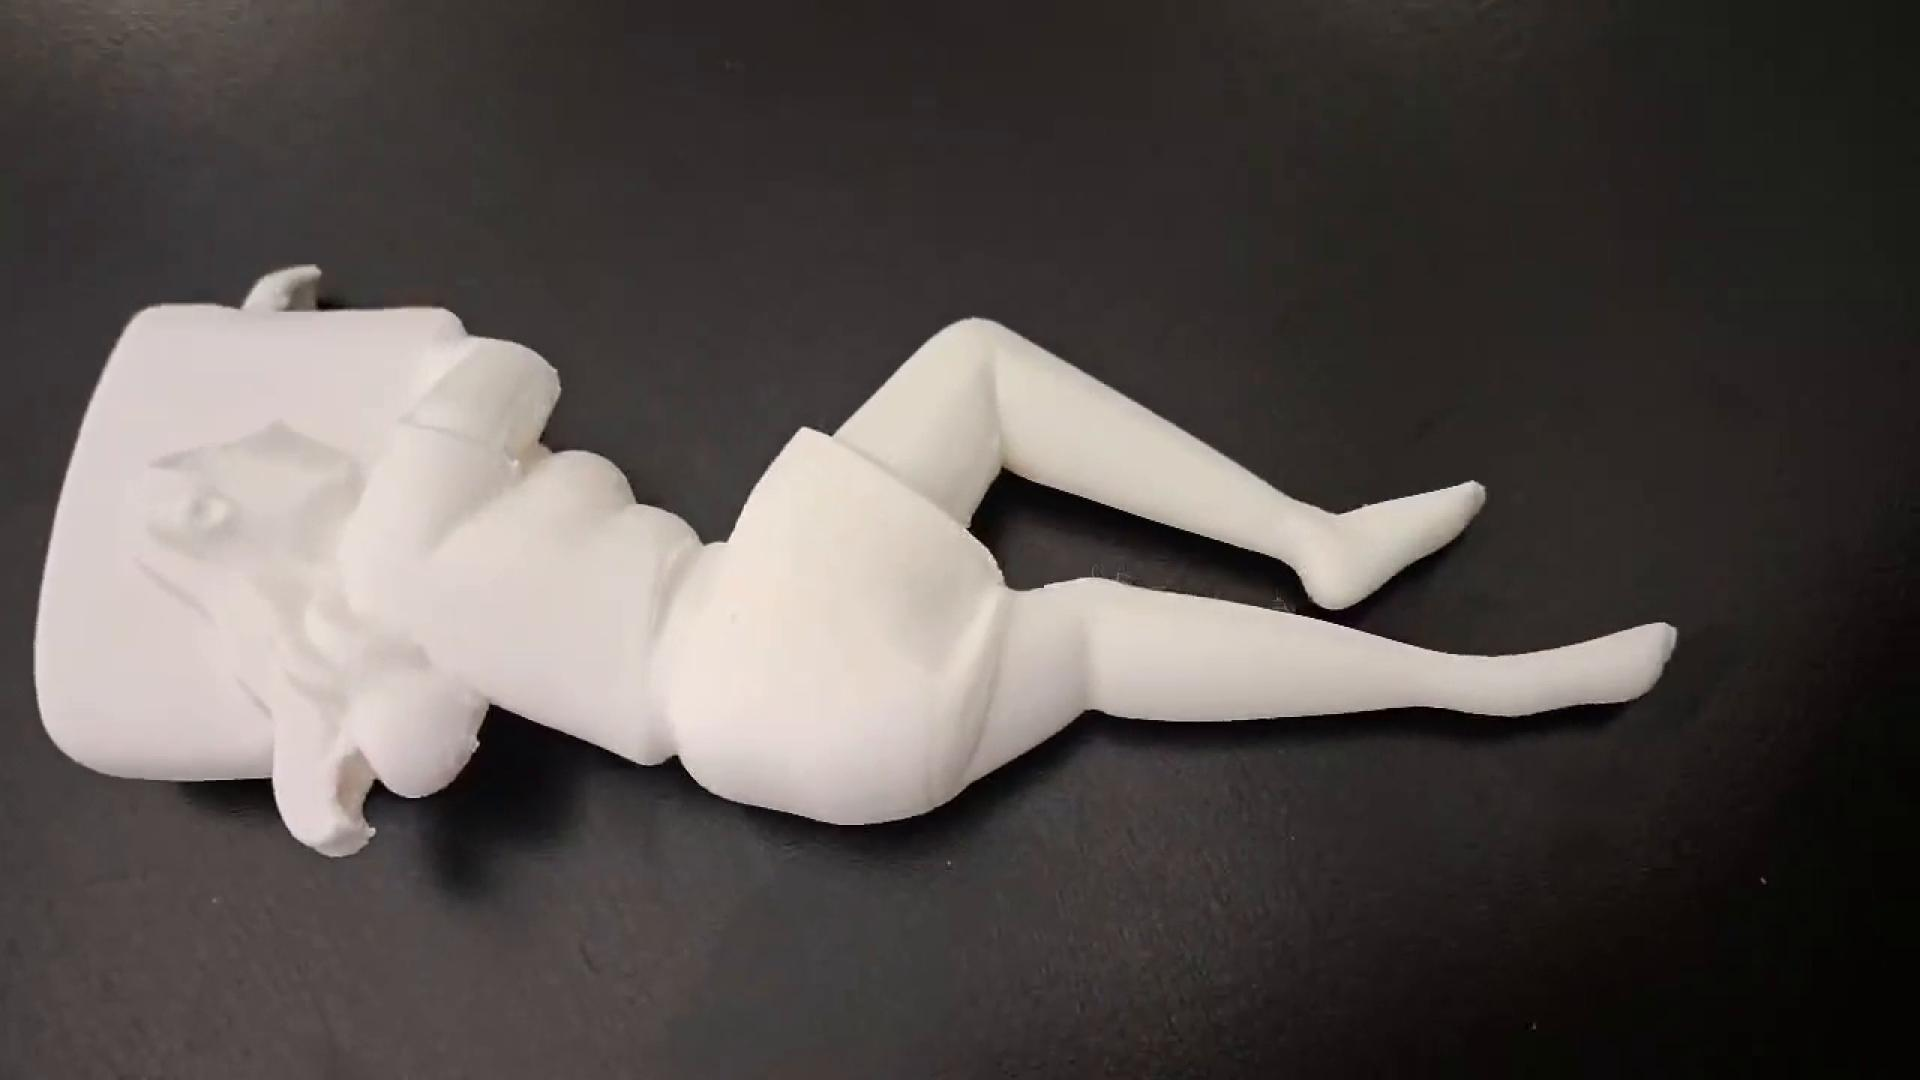Good-style: (22, 269, 1679, 852)
